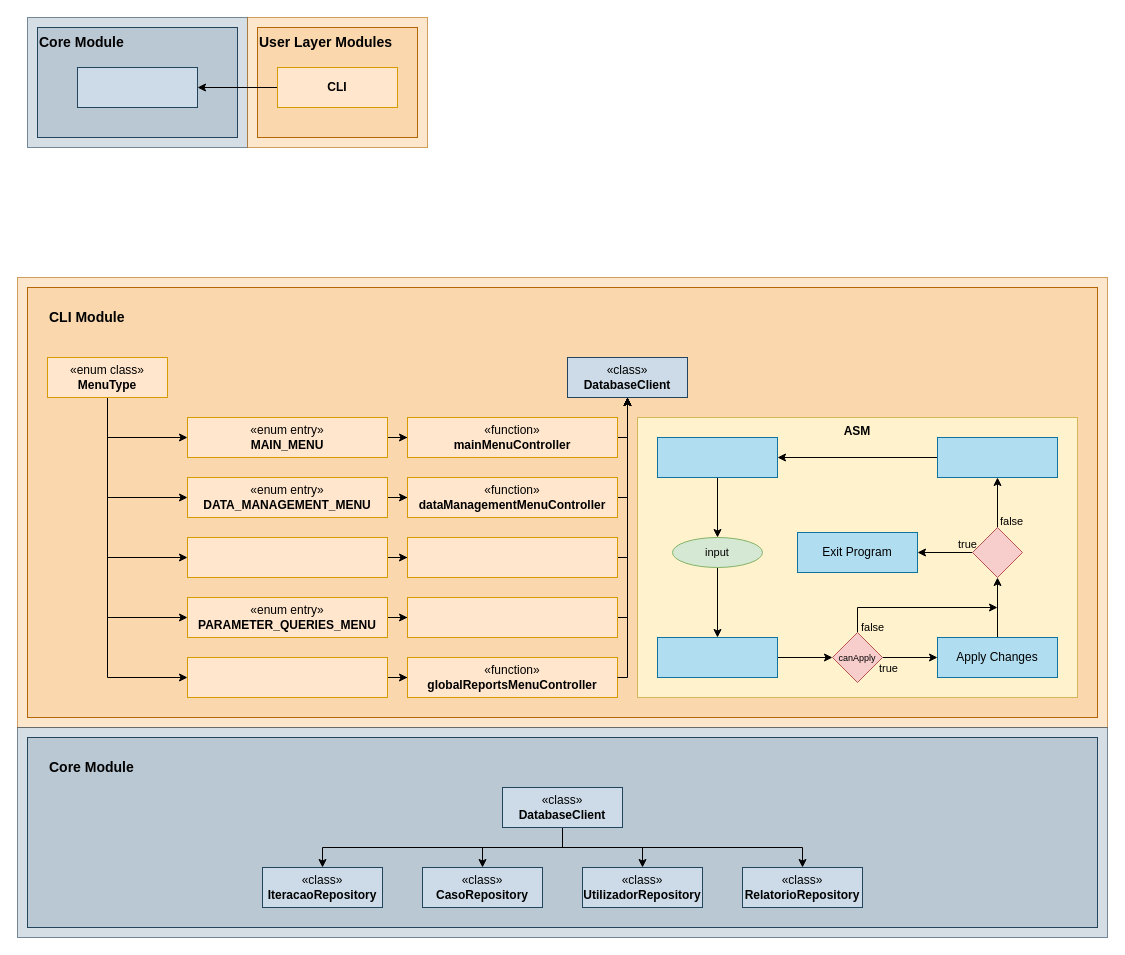
Image size: 1125x955. Some labels were removed from this diagram. Here are the shapes that lost their labels. From the top down, the box of each, then its label:
(76, 66, 198, 108): Core
(656, 436, 778, 478): Read Input
(936, 436, 1058, 478): Print Menu
(186, 536, 388, 578): «enum entry» QUERIES_AND_REPORTS_MENU
(406, 536, 618, 578): «function» queriesAndReportsMenuController
(972, 526, 1022, 578): exit?
(406, 596, 618, 638): «function» parameterQueriesMenuController
(186, 656, 388, 698): «enum entry» GLOBAL_REPORTS_MENU
(656, 636, 778, 678): Menu Controller
